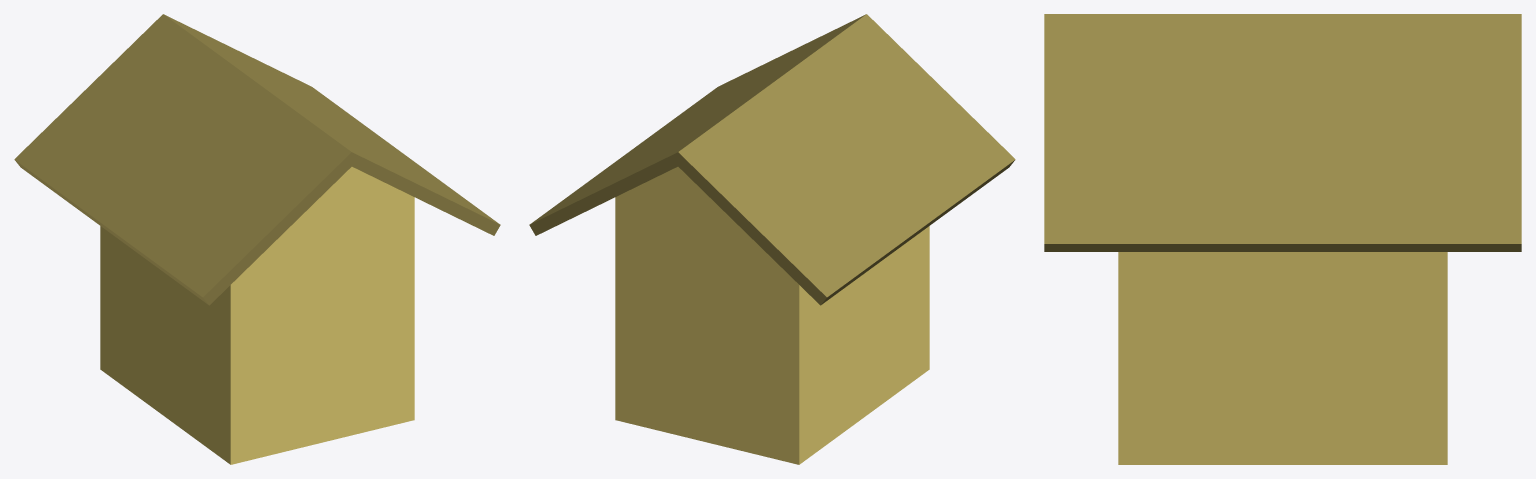
The model's file is result.glb.
The picture shows the model from 3 angles, left to right: view 1: azimuth 30°, elevation 25°; view 2: azimuth 150°, elevation 25°; view 3: azimuth 270°, elevation 25°; orthographic projection. The views are drawn at different scales.
Visible parts, largest first — view 1: 23603610-319f-4d60-8a8d-cc173a1b4a3c__undefined, 1fa4cb68-b0fa-44cb-a92e-2342e2ad1783__undefined (×2); view 2: 23603610-319f-4d60-8a8d-cc173a1b4a3c__undefined, 1fa4cb68-b0fa-44cb-a92e-2342e2ad1783__undefined (×2); view 3: 1fa4cb68-b0fa-44cb-a92e-2342e2ad1783__undefined, 23603610-319f-4d60-8a8d-cc173a1b4a3c__undefined.
Boxes of the visible parts, x1,y1,x2,y2 form: 23603610-319f-4d60-8a8d-cc173a1b4a3c__undefined: (100, 167, 414, 464); 1fa4cb68-b0fa-44cb-a92e-2342e2ad1783__undefined (×2): (14, 14, 500, 305); 23603610-319f-4d60-8a8d-cc173a1b4a3c__undefined: (615, 167, 929, 464); 1fa4cb68-b0fa-44cb-a92e-2342e2ad1783__undefined (×2): (529, 14, 1015, 305); 1fa4cb68-b0fa-44cb-a92e-2342e2ad1783__undefined: (1044, 14, 1521, 251); 23603610-319f-4d60-8a8d-cc173a1b4a3c__undefined: (1118, 252, 1447, 464).
Bounding box in the file's own units: 660 × 660 × 724.
